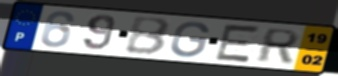6: (39, 10, 76, 48)
9: (81, 13, 118, 52)
B: (124, 16, 173, 57)
E: (212, 23, 264, 64)
G: (168, 20, 212, 59)
R: (253, 27, 302, 65)
